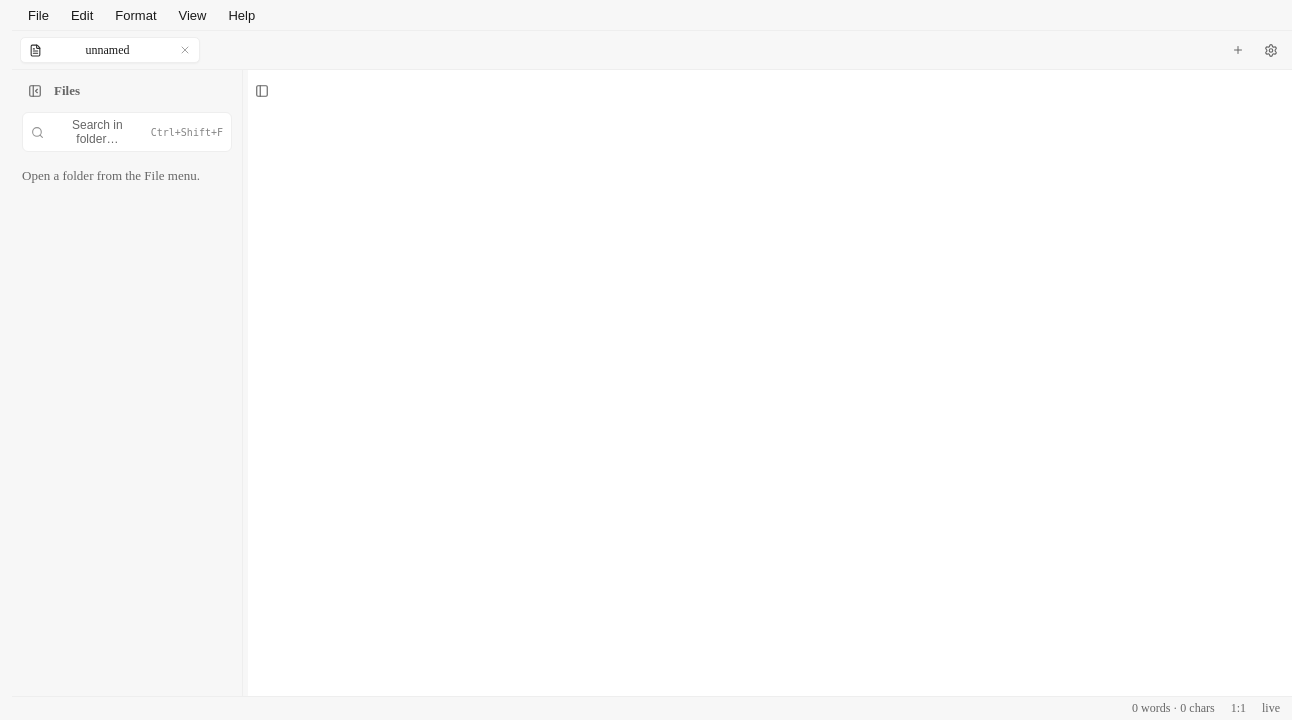
Test case: FileTree sidebar menu › creates a new markdown file in the clicked file's parent, opens and focuses it, and refreshes the listing
Press o
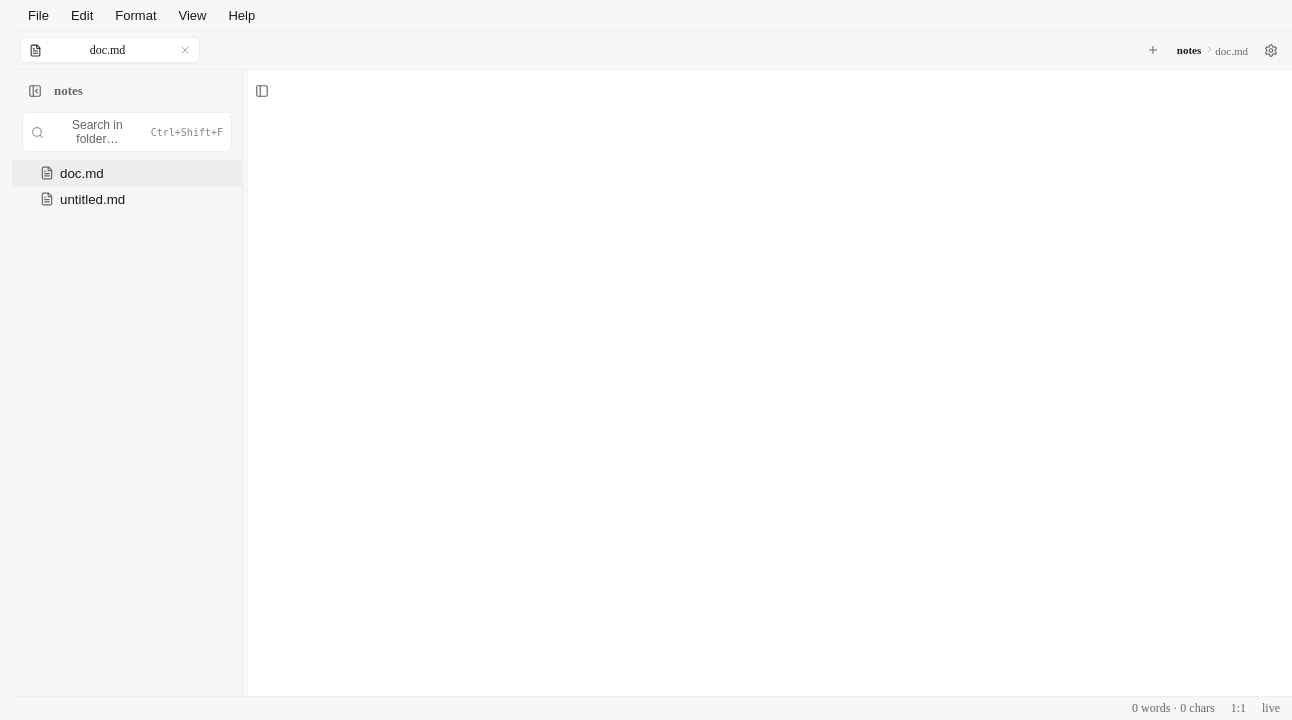
Expected: the 1st text "doc.md" is shown, [90, 42, 125, 56]
Expected: the text "untitled.md" is shown, [60, 192, 125, 206]
Right-click the button "doc.md": (127, 173) [12, 160, 242, 186]
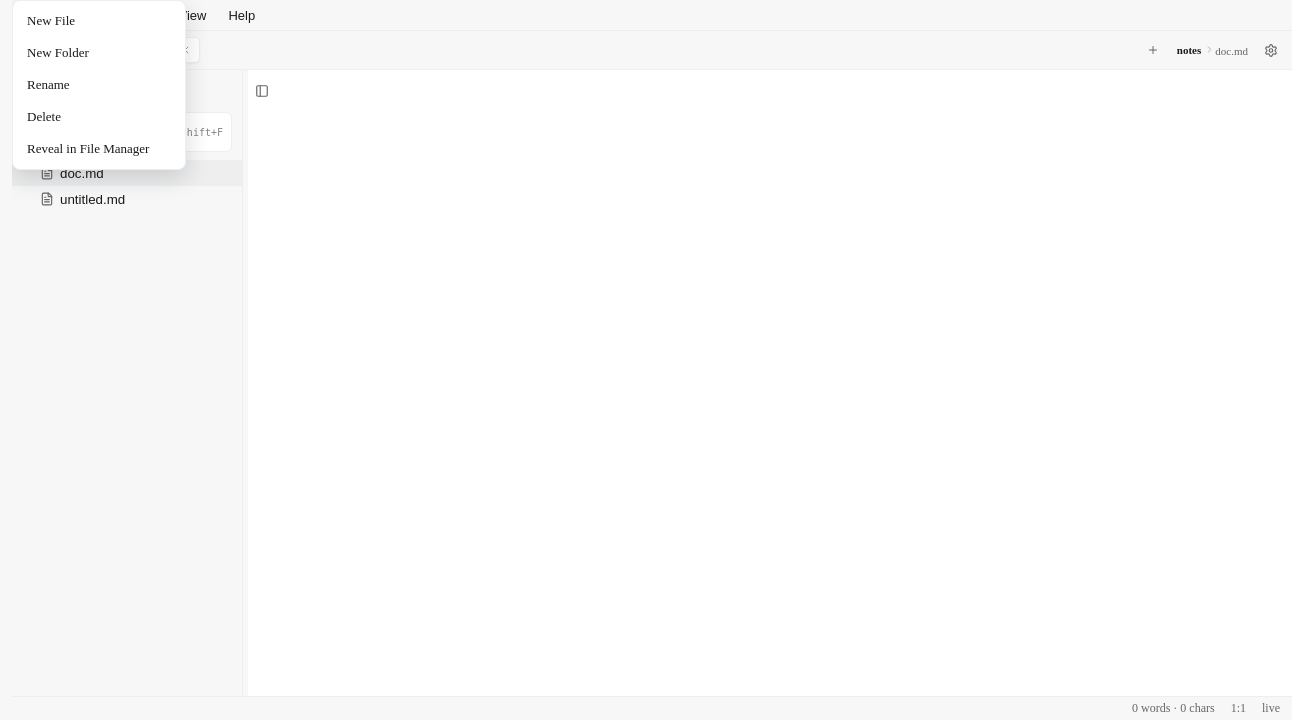
Expected: the menu is shown, [12, 0, 186, 170]
Click the menu item "New File": (99, 21) [19, 7, 179, 35]
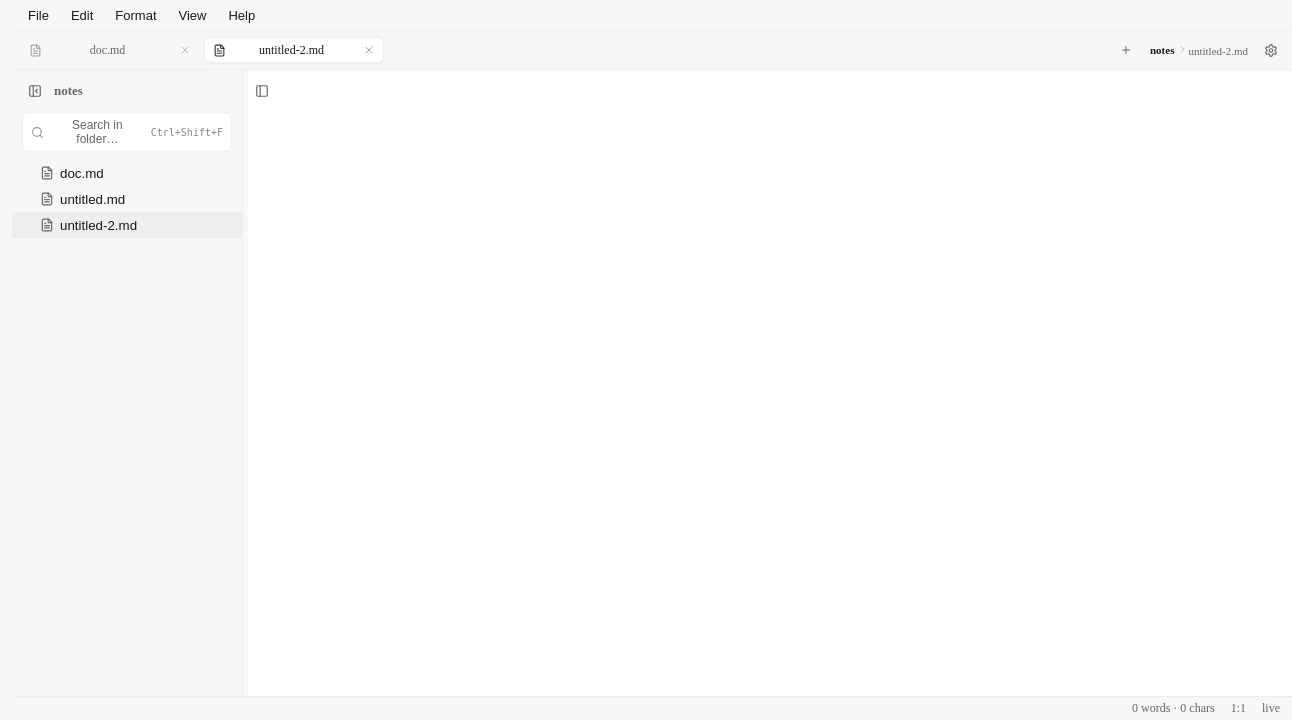
Expected: the 1st text "untitled-2.md" is shown, [259, 42, 324, 56]
